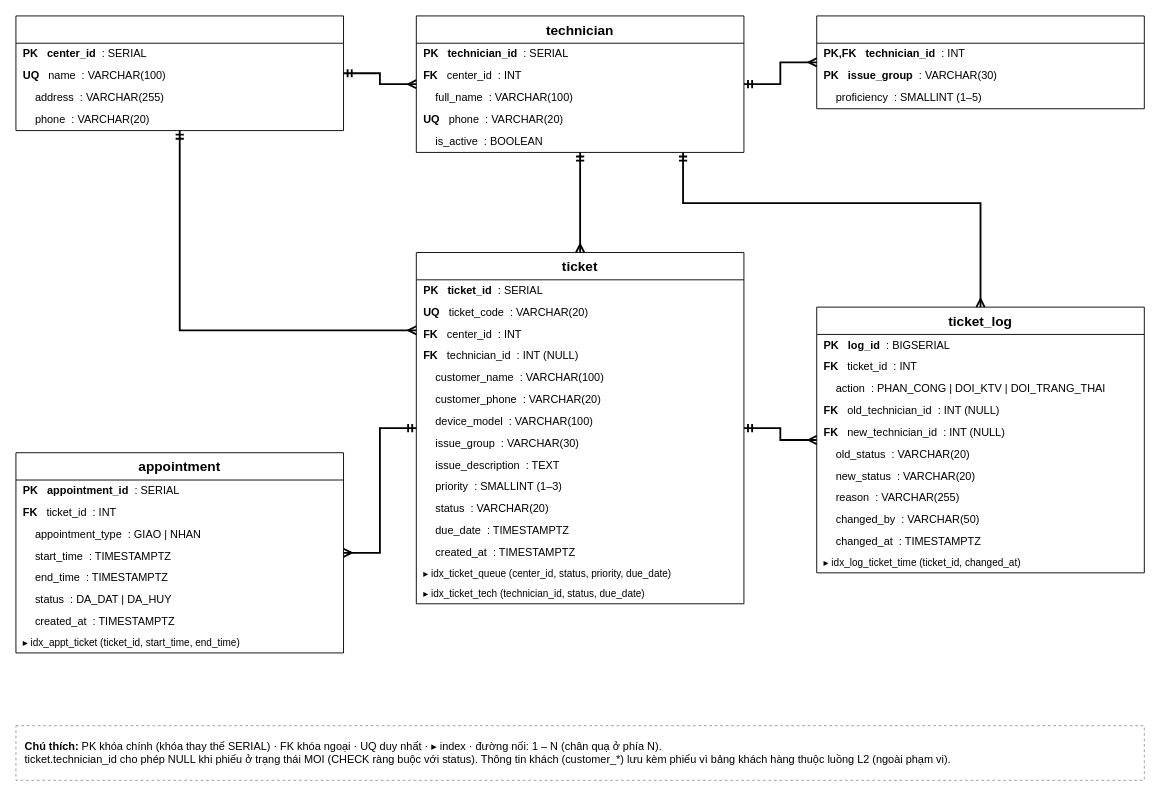
Image size: 1160x796. Some labels were removed from this diagram. Each missing label, with the box of its shape:
service_center: (15, 15, 344, 131)
technician_skill: (816, 15, 1144, 109)
